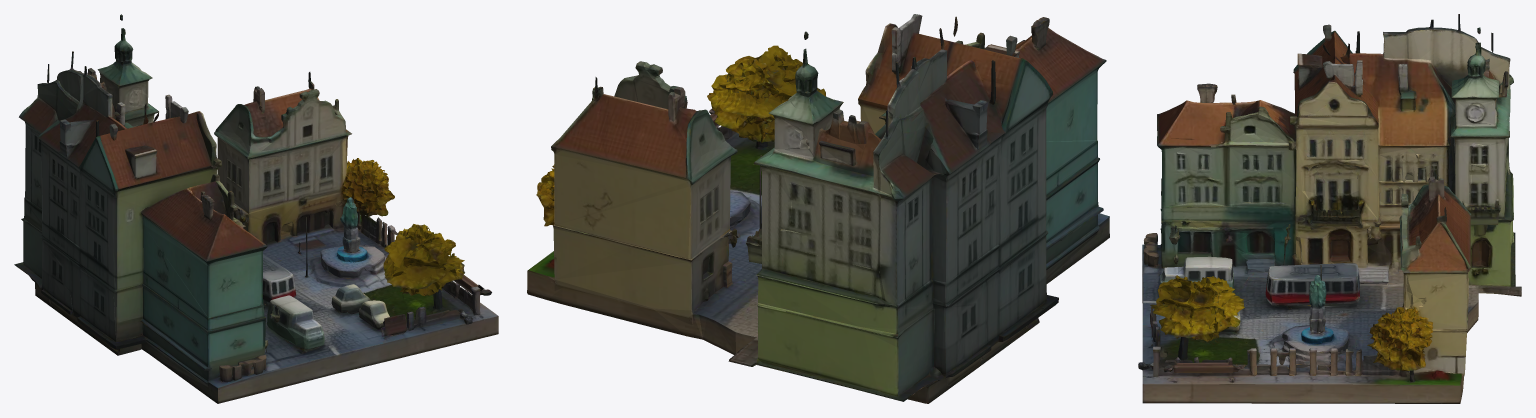
Rendered from 3d_comp.glb.
3 renders of one model, left to right at view 1: azimuth 30°, elevation 25°; view 2: azimuth 150°, elevation 25°; view 3: azimuth 270°, elevation 25°, orthographic. The views are drawn at different scales.
Visible parts, largest first — view 1: geometry_0; view 2: geometry_0; view 3: geometry_0.
Part boxes in pixels (bbox=[...]): geometry_0: bbox=[14, 14, 498, 403]; geometry_0: bbox=[527, 14, 1109, 403]; geometry_0: bbox=[1138, 14, 1521, 403].
Size of the model in its own units: 0.9879 by 0.7373 by 0.9526.
Materials: 1 (1 with a texture image).
